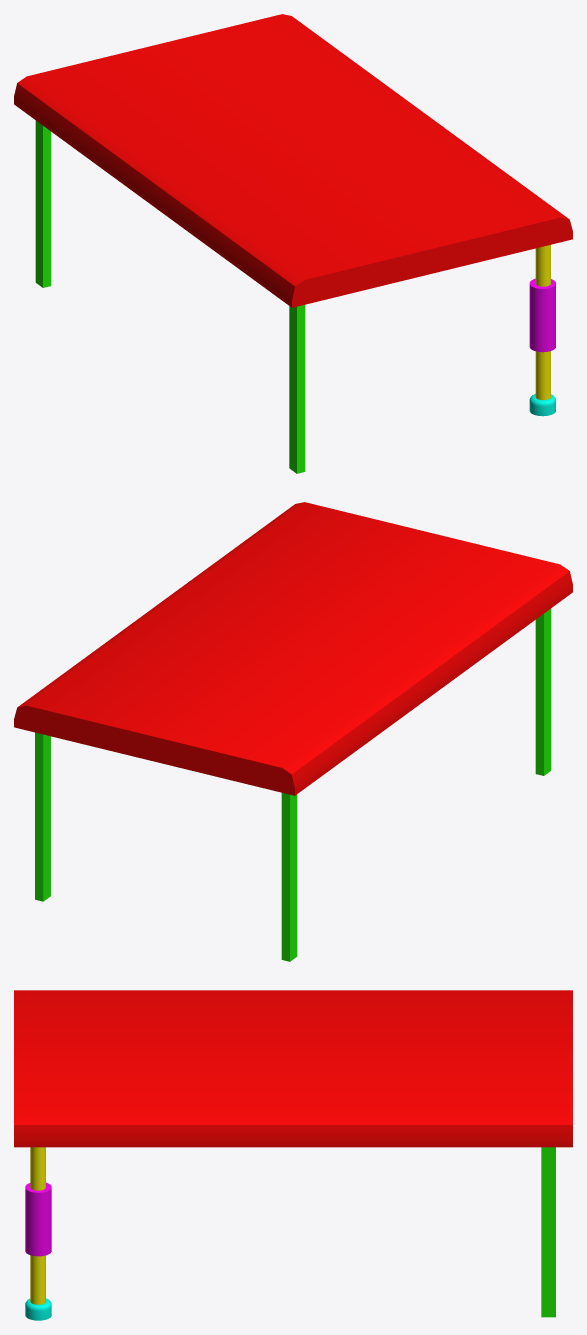
Rendered from umgebung_tisch_low.FBX.
3 views of the same model, one above another, from view 1: azimuth 30°, elevation 25°; view 2: azimuth 150°, elevation 25°; view 3: azimuth 270°, elevation 25° (orthographic).
Visible parts, largest first — view 1: o_tischplatte_low, o_tischbein_low, i_tischbein_low, o_stange_detail_low, o_stange_low; view 2: o_tischplatte_low, i_tischbein_low (×2), o_tischbein_low; view 3: o_tischplatte_low, i_tischbein_low, o_stange_detail_low, o_stange_low, o_stange_fuss_low.
Part boxes in pixels (x1,y1,x2,y2): o_tischplatte_low: [14, 14, 572, 307]; o_tischbein_low: [289, 305, 305, 473]; i_tischbein_low: [35, 120, 51, 287]; o_stange_detail_low: [529, 278, 555, 352]; o_stange_low: [535, 245, 550, 400]; o_tischplatte_low: [14, 502, 572, 795]; i_tischbein_low (×2): [35, 732, 297, 961]; o_tischbein_low: [535, 608, 551, 775]; o_tischplatte_low: [14, 990, 572, 1147]; i_tischbein_low: [541, 1147, 555, 1317]; o_stange_detail_low: [25, 1182, 51, 1256]; o_stange_low: [30, 1147, 45, 1304]; o_stange_fuss_low: [25, 1298, 51, 1320].
Bounding box in the file's own units: 221 × 151 × 379.
